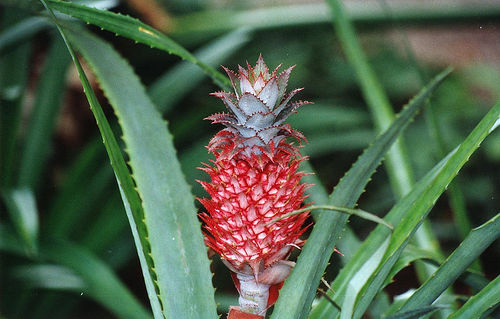pineapple: (189, 54, 322, 278)
